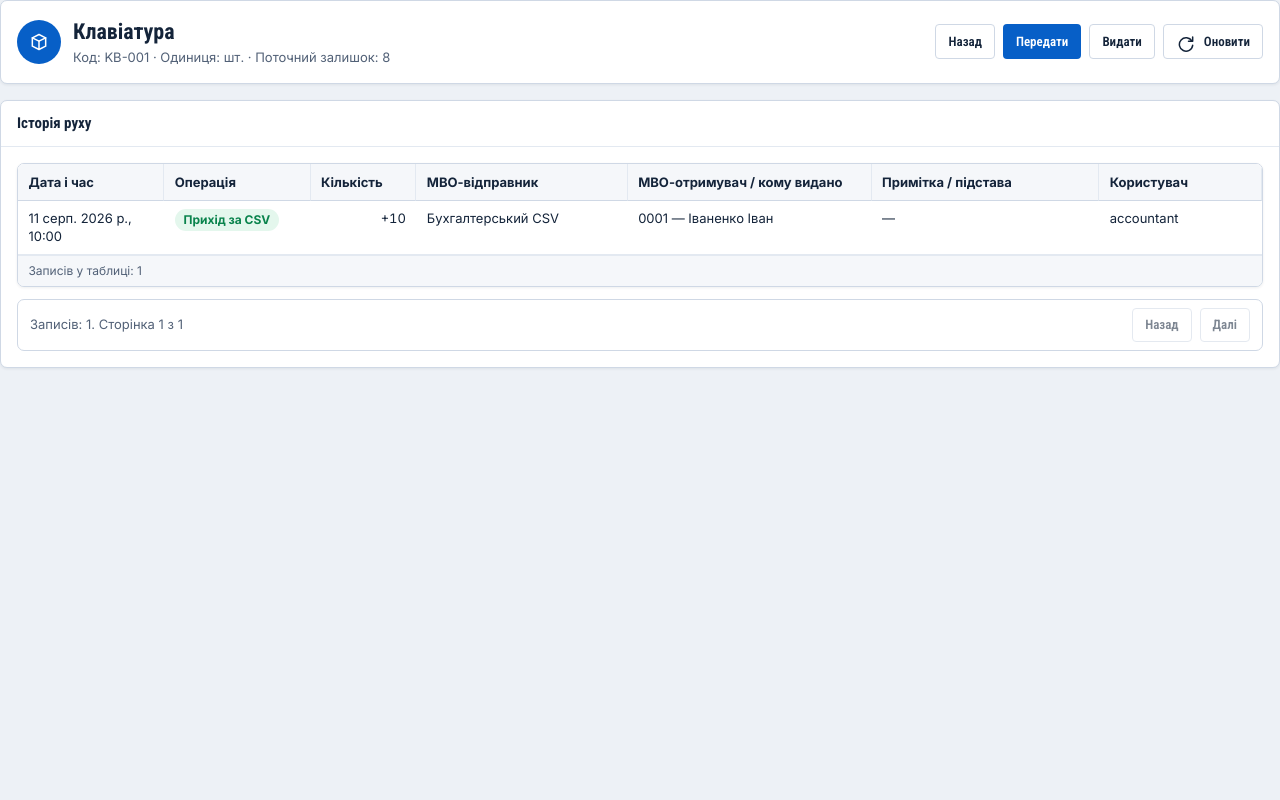
Scenario: MyInventoryItemCard › opens the existing issue form with the selected nomenclature item
Expected: the text "Прихід за CSV" is shown, [175,209,279,231]
Click the button "Видати" at (1122, 42), box [1089,24,1155,59]
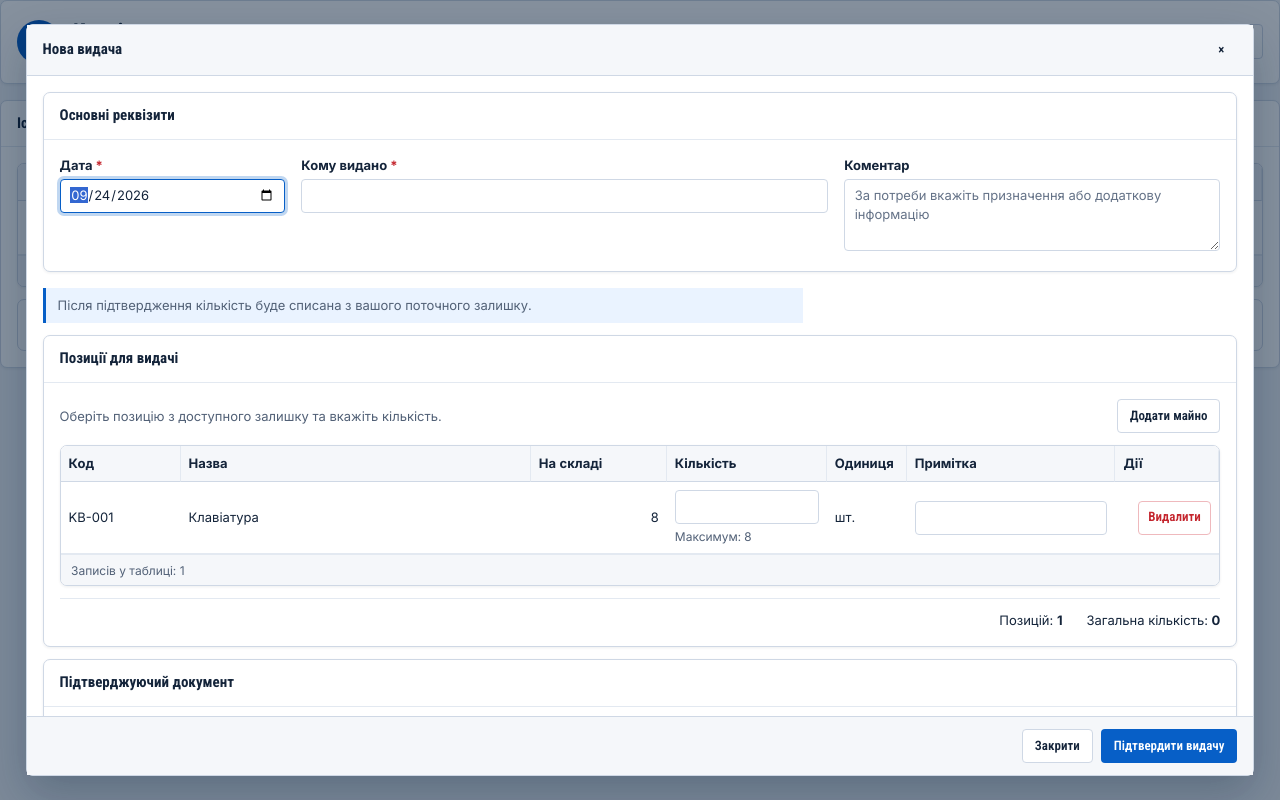
Expected: the number field named "Кількість рядка 1" is empty, [675,490,819,524]
Expected: the heading "Нова видача" is shown, [43,39,122,61]
